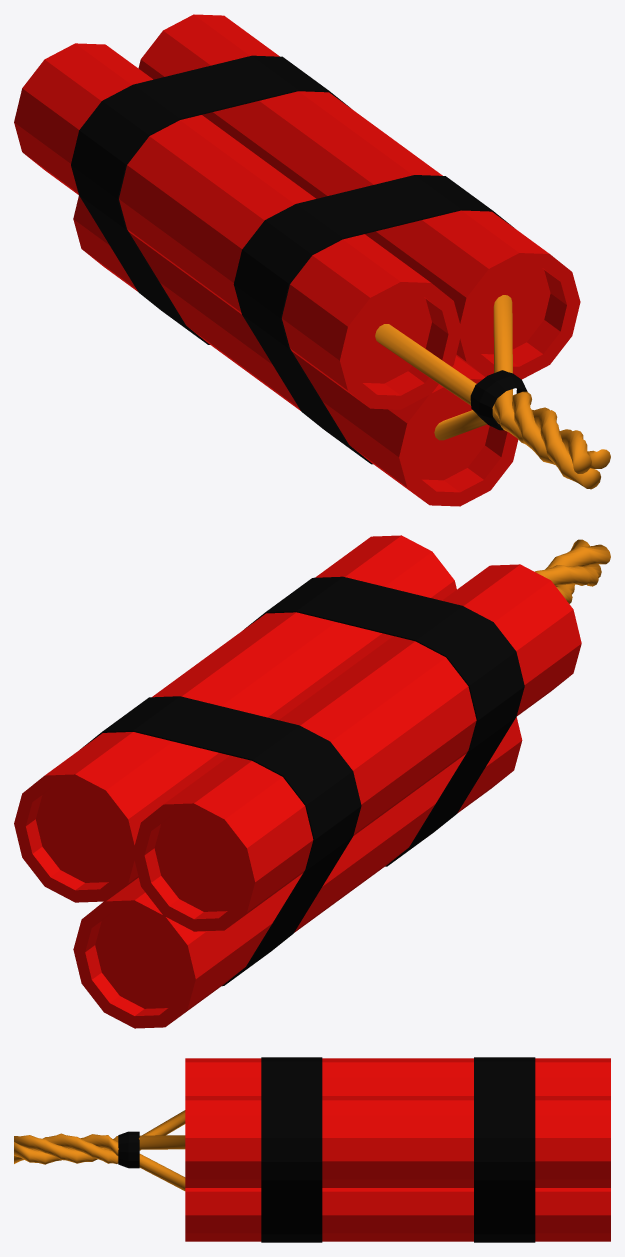
File: dynamite.fbx
The picture shows the model from 3 angles, top to bottom: view 1: azimuth 30°, elevation 25°; view 2: azimuth 150°, elevation 25°; view 3: azimuth 270°, elevation 25°; orthographic projection. The views are drawn at different scales.
Parts seen in each view (by area): view 1: Cylinder.003; view 2: Cylinder.003; view 3: Cylinder.003.
Boxes of the visible parts, x1,y1,x2,y2 form: Cylinder.003: [14, 14, 610, 506]; Cylinder.003: [14, 535, 610, 1028]; Cylinder.003: [14, 1057, 610, 1242].
Bounding box in the file's own units: 16.59 × 15.75 × 54.
